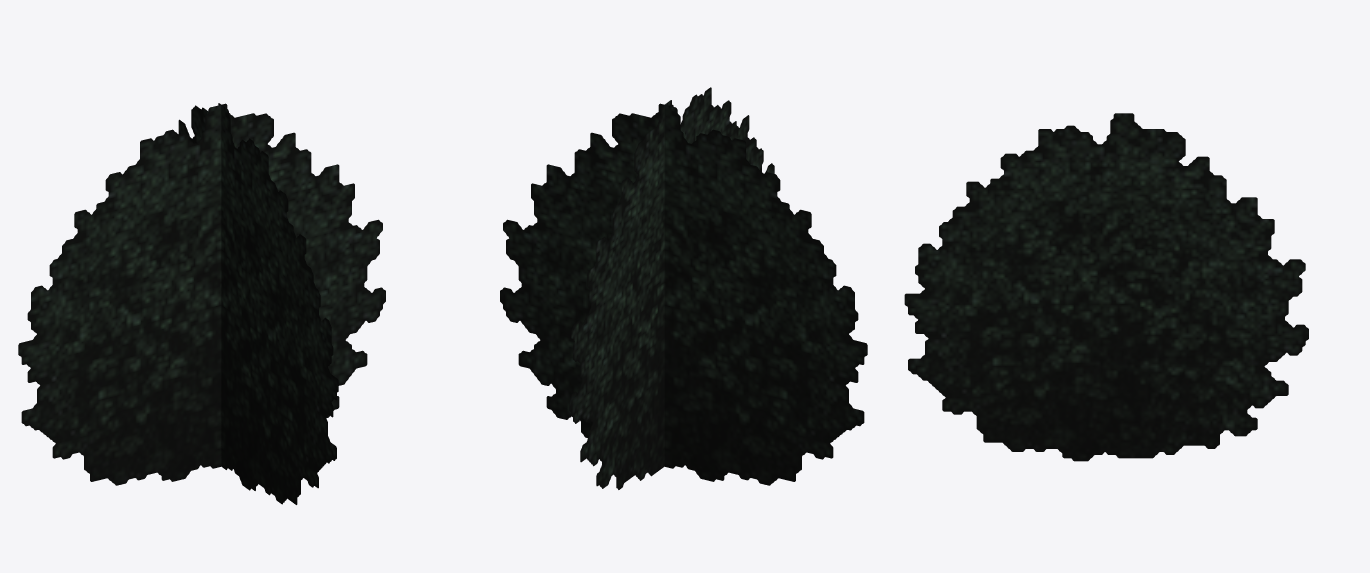
The model's file is SM_EC_Scrubline_Bush_Cross_2.fbx.
3 views of the same model, side by side, from view 1: azimuth 30°, elevation 25°; view 2: azimuth 150°, elevation 25°; view 3: azimuth 270°, elevation 25° (orthographic). The views are drawn at different scales.
Parts seen in each view (by area): view 1: SM_EC_Scrubline_Bush_Cross_2; view 2: SM_EC_Scrubline_Bush_Cross_2; view 3: SM_EC_Scrubline_Bush_Cross_2.
Boxes of the visible parts, <box> form: SM_EC_Scrubline_Bush_Cross_2: <box>18,103,385,504</box>; SM_EC_Scrubline_Bush_Cross_2: <box>500,87,867,489</box>; SM_EC_Scrubline_Bush_Cross_2: <box>904,113,1308,461</box>.
Bounding box in the file's own units: 2.08 × 2.08 × 1.77.
